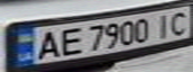0: (118, 18, 139, 46), (133, 16, 154, 43)
7: (84, 21, 106, 52)
9: (103, 20, 124, 48)
A: (30, 28, 63, 61)
C: (163, 8, 193, 35)
E: (54, 25, 84, 57)
I: (151, 11, 175, 38)
